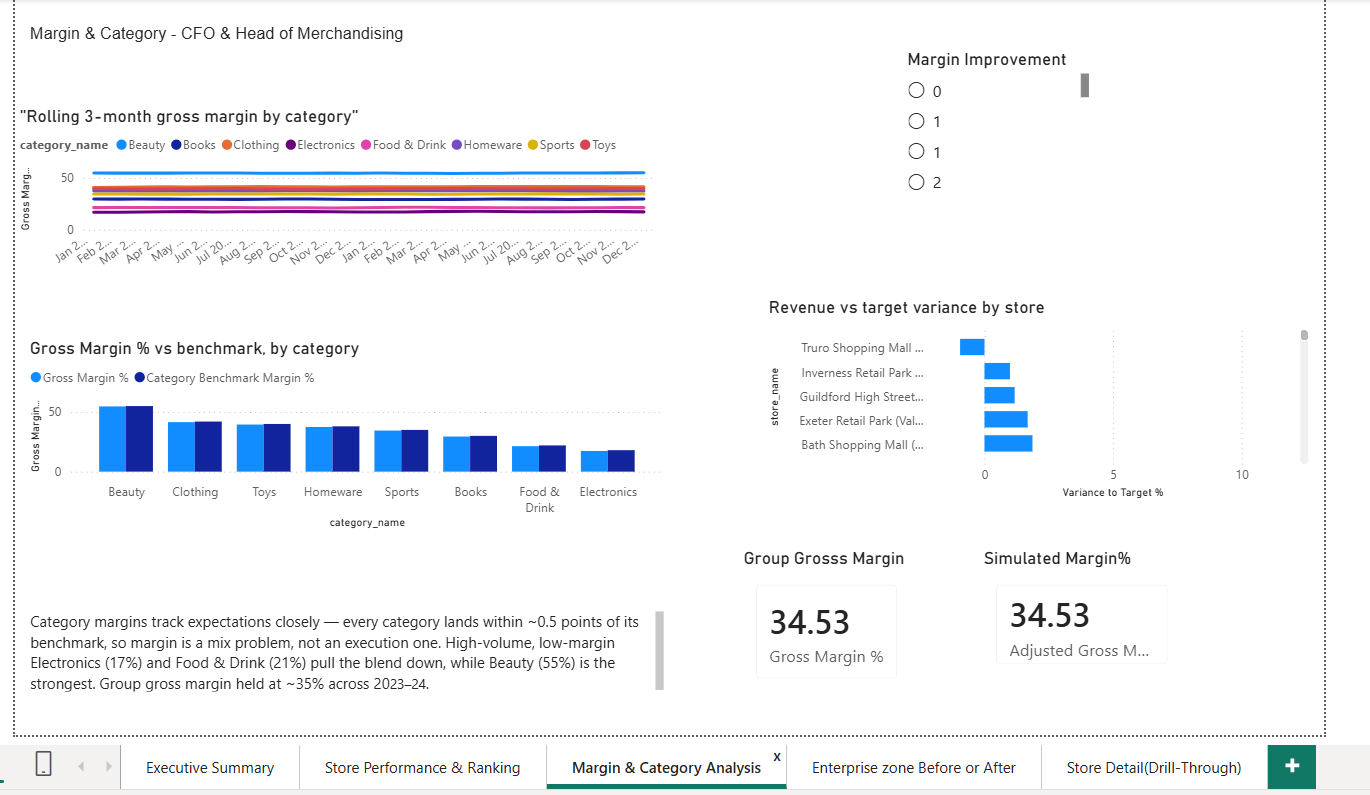

The dashboard page shown, as its layout file describes it:
{"tool":"powerbi","page":{"name":"Margin & Category Analysis","canvas":[1280,720],"ordinal":2},"visuals":[{"type":"textbox","box":[10,20,428.6,58.6],"z":0},{"type":"textbox","box":[9.8,594.3,629.8,88],"z":1000},{"type":"lineChart","title":"\"Rolling 3-month gross margin by category\"","fields":{"Category":["DateTable.Month Year"],"Series":["Categories.category_name"],"Y":["Table.Gross Margin % Rolling 3M"]},"box":[0,103.9,629.8,170],"z":4003},{"type":"clusteredColumnChart","title":"Gross Margin % vs benchmark, by category","fields":{"Category":["Categories.category_name"],"Y":["Table.Gross Margin %","Table.Category Benchmark Margin %"]},"box":[9.8,331.4,629.8,192],"z":4004},{"type":"cardVisual","title":"Group Grosss Margin","fields":{"Data":["Table.Gross Margin %"]},"box":[708,536.8,172.4,145.5],"z":4006},{"type":"cardVisual","title":"Simulated Margin%","fields":{"Data":["Table.Adjusted Gross Margin %"]},"box":[942.8,536.8,203,132.1],"z":4007},{"type":"clusteredBarChart","title":"Revenue vs target variance by store","fields":{"Category":["Stores.store_name"],"Y":["Table.Variance to Target %"]},"box":[732.5,291,538,203],"z":4008},{"type":"listSlicer","fields":{"Values":["Margin Improvement.Margin Improvement"]},"box":[868.2,48.9,187.1,150.4],"z":4009}]}

Visuals, with their boxes on the page's 1280x720 design canvas (x1, y1, x2, y2). These are canvas units, not pixel positions in the 1370x795 screenshot, which may show the page scaled, cropped or inside an application window:
textbox: locate(10, 20, 439, 79)
textbox: locate(10, 594, 640, 682)
""Rolling 3-month gross margin by category"" lineChart: locate(0, 104, 630, 274)
"Gross Margin % vs benchmark, by category" clusteredColumnChart: locate(10, 331, 640, 523)
"Group Grosss Margin" cardVisual: locate(708, 537, 880, 682)
"Simulated Margin%" cardVisual: locate(943, 537, 1146, 669)
"Revenue vs target variance by store" clusteredBarChart: locate(732, 291, 1270, 494)
listSlicer - Margin Improvement.Margin Improvement: locate(868, 49, 1055, 199)
